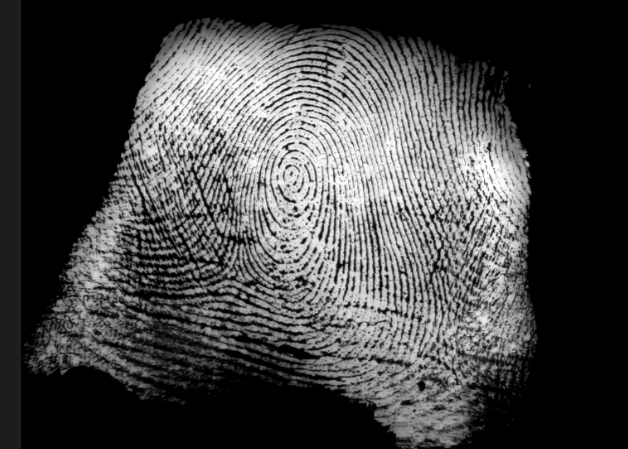nucelo: (275, 157, 307, 199)
verticilo: (213, 257, 249, 289), (410, 338, 434, 366)
